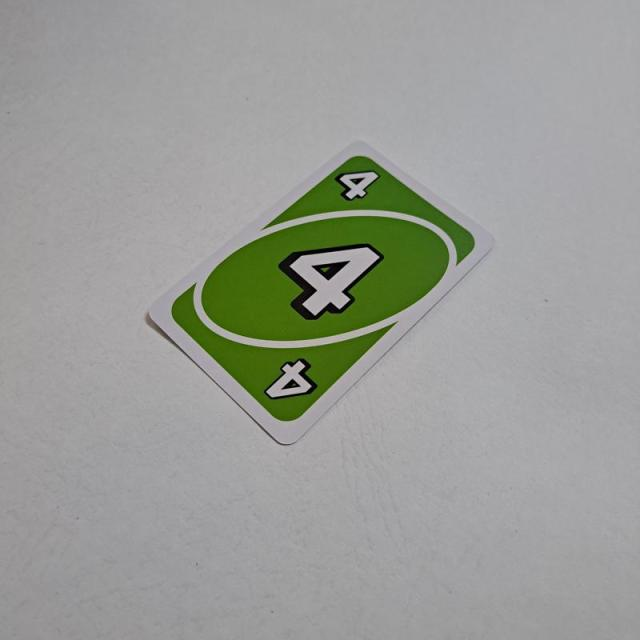Green_Card: (168, 150, 482, 426)
Number_4: (326, 160, 387, 205)
